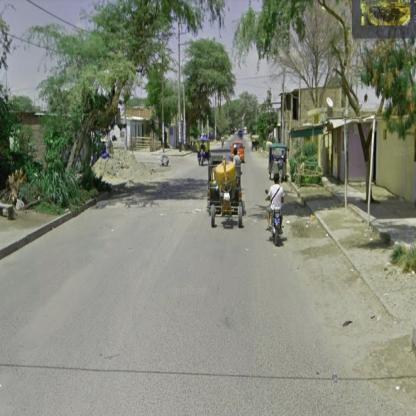Moto: (267, 175, 285, 246)
Pista: (4, 134, 351, 264)
Vehiculo: (207, 156, 244, 229), (269, 144, 290, 184), (199, 139, 213, 167), (232, 142, 246, 163), (253, 136, 260, 152)
